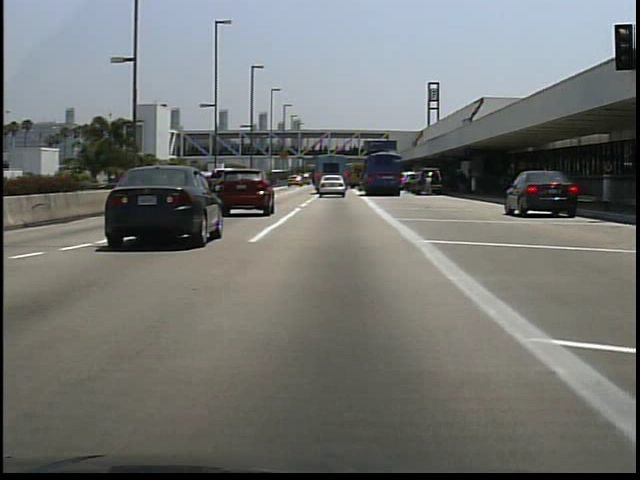person: (453, 165, 469, 199)
